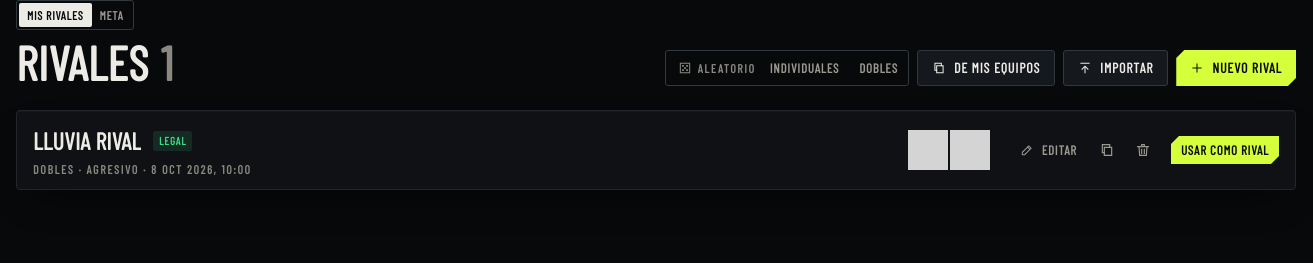
Test case: opponents pages › lists the opponents with their difficulty and deletes one only after confirming
The image size is (1313, 263).
Expected: the text "Dobles · Agresivo · 8 oct 2026, 10:00" is shown, [33,162,251,176]
Click the button named "Borrar".
click(1143, 150)  # box [1127,134,1159,166]
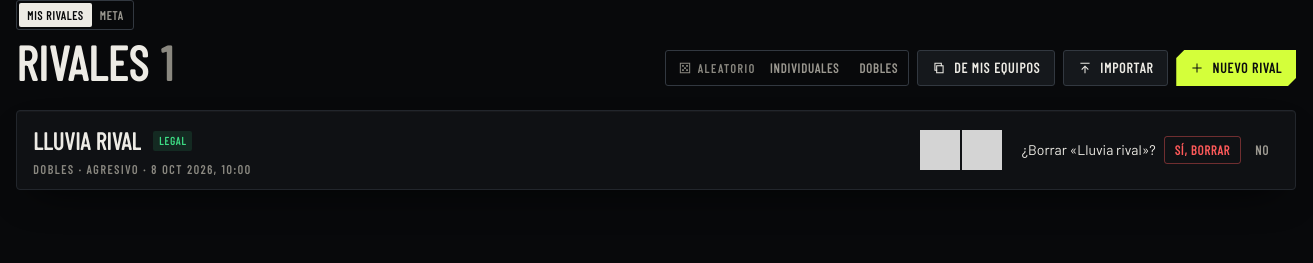
Click the button "Sí, borrar".
click(1202, 150)  # box [1164,136,1241,164]
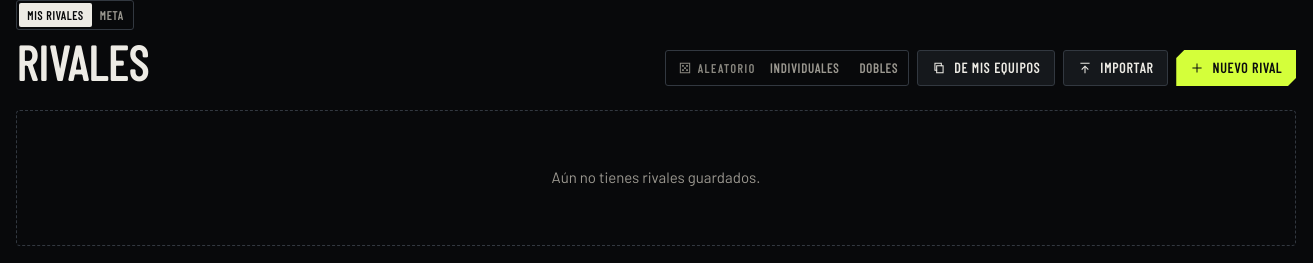
Now the link "Lluvia rival" is gone
